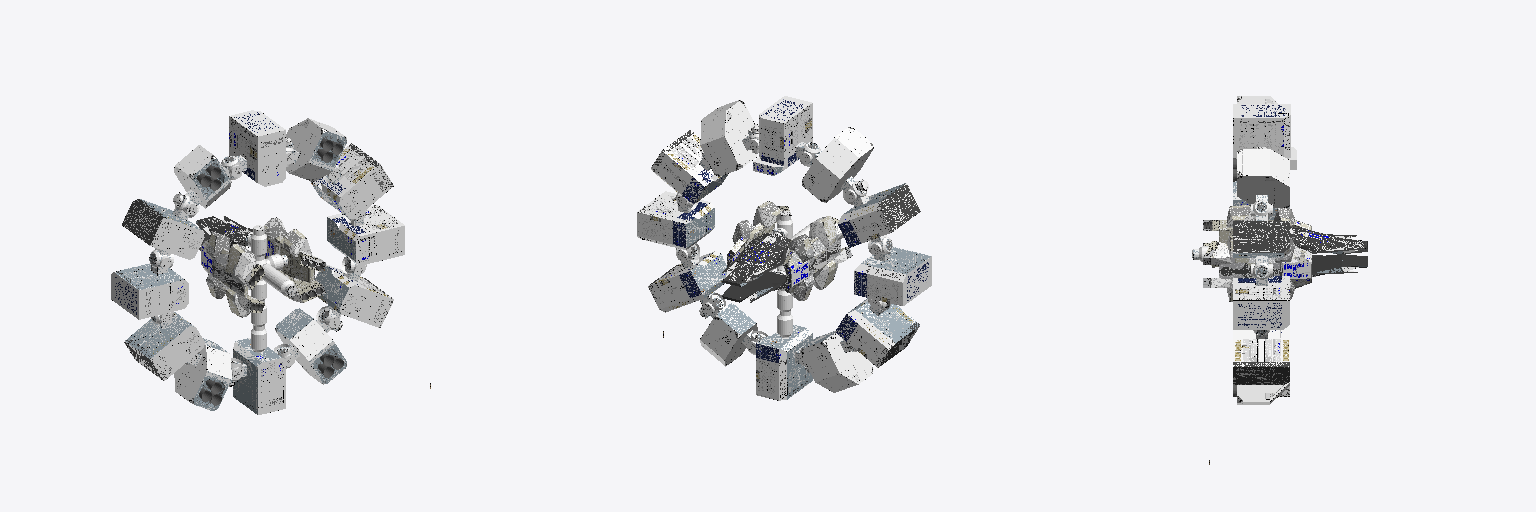
3 views of the same model, side by side, from view 1: azimuth 30°, elevation 25°; view 2: azimuth 150°, elevation 25°; view 3: azimuth 270°, elevation 25° (orthographic).
Visible parts, largest first — view 1: group_85, group_0, group_83.002, group_39.004, group_38.006, group_42.006, group_36.006, group_40.006, group_77.004, group_37.003, group_41.004, group_40.001 (+16 smaller); view 2: group_83.002, group_85, group_84.002, group_36.005, group_77.001, group_39.001, group_42.005, group_89, group_38.005, group_78.002, group_40.001, group_41.001 (+18 smaller); view 3: group_83.001, group_38.001, group_37.003, group_40.004, group_41.003, group_0, group_41.002, group_89, group_38.004, group_37.004, group_85, group_82.002 (+2 smaller).
Boxes of the visible parts, x1=… form: group_85: x1=201, y1=232, x2=259, y2=316; group_0: x1=264, y1=217, x2=318, y2=299; group_83.002: x1=286, y1=118, x2=332, y2=181; group_39.004: x1=139, y1=279, x2=188, y2=319; group_38.006: x1=340, y1=285, x2=393, y2=327; group_42.006: x1=150, y1=217, x2=204, y2=259; group_36.006: x1=150, y1=326, x2=204, y2=380; group_40.006: x1=339, y1=164, x2=393, y2=218; group_77.004: x1=258, y1=358, x2=285, y2=414; group_37.003: x1=258, y1=130, x2=285, y2=186; group_41.004: x1=356, y1=226, x2=404, y2=265; group_40.001: x1=313, y1=143, x2=379, y2=196; group_83.002: x1=700, y1=100, x2=756, y2=176; group_85: x1=783, y1=216, x2=843, y2=300; group_84.002: x1=802, y1=137, x2=873, y2=202; group_36.005: x1=835, y1=310, x2=894, y2=367; group_77.001: x1=756, y1=343, x2=786, y2=400; group_39.001: x1=854, y1=264, x2=905, y2=305; group_42.005: x1=838, y1=202, x2=891, y2=247; group_89: x1=724, y1=233, x2=790, y2=283; group_38.005: x1=648, y1=271, x2=704, y2=312; group_78.002: x1=801, y1=342, x2=858, y2=392; group_40.001: x1=662, y1=130, x2=713, y2=186; group_41.001: x1=637, y1=212, x2=685, y2=249; group_83.001: x1=1237, y1=149, x2=1289, y2=207; group_38.001: x1=1233, y1=325, x2=1289, y2=366; group_37.003: x1=1233, y1=115, x2=1290, y2=158; group_40.004: x1=1233, y1=221, x2=1289, y2=252; group_41.003: x1=1233, y1=301, x2=1289, y2=329; group_0: x1=1219, y1=236, x2=1311, y2=301; group_41.002: x1=1233, y1=276, x2=1289, y2=300; group_89: x1=1294, y1=228, x2=1367, y2=252; group_38.004: x1=1233, y1=367, x2=1289, y2=384; group_37.004: x1=1233, y1=104, x2=1290, y2=117; group_85: x1=1219, y1=205, x2=1307, y2=243; group_82.002: x1=1237, y1=382, x2=1289, y2=403.
Bounding box in the file's own units: 79.06 × 76.19 × 42.81.
36 materials, 19 textured.